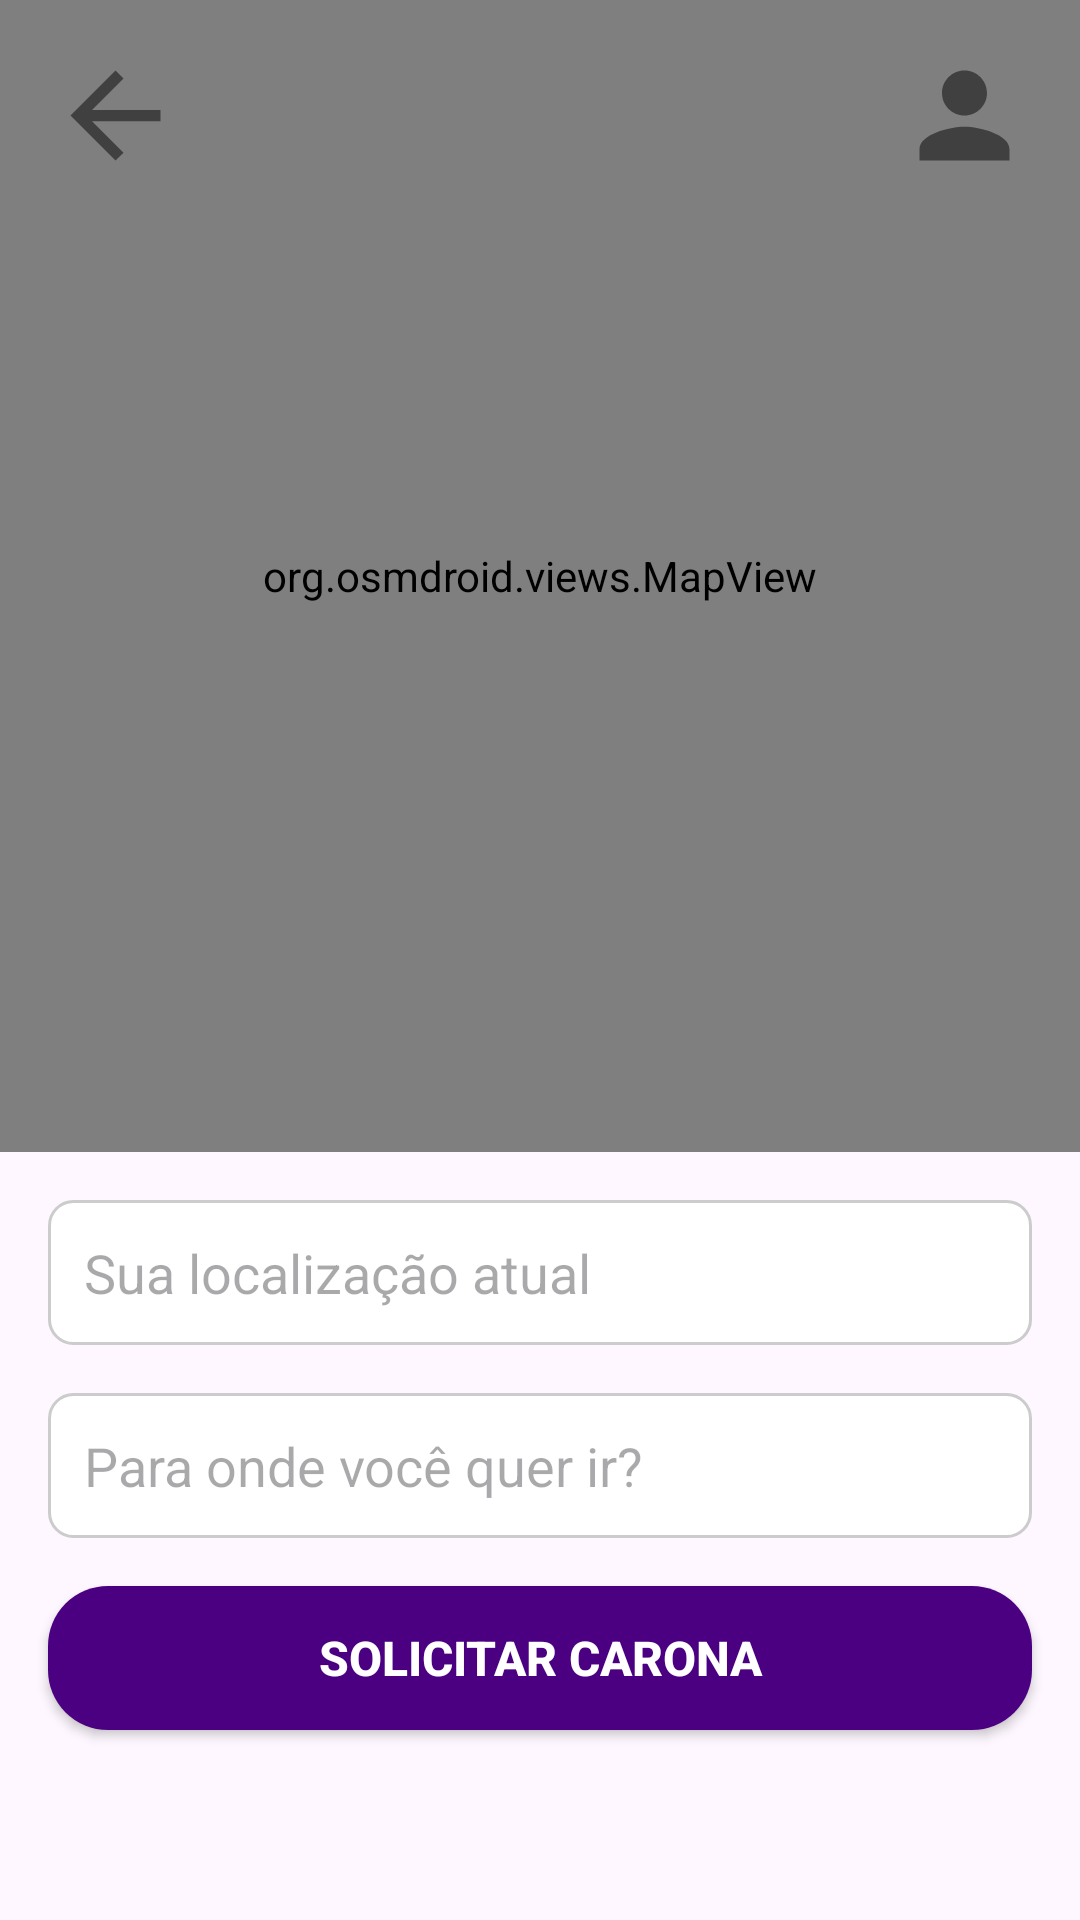

Point at icon controls on the screen. Image size 1080x1920, points as [x,y].
seta return: [116,115]
user: [964,115]
